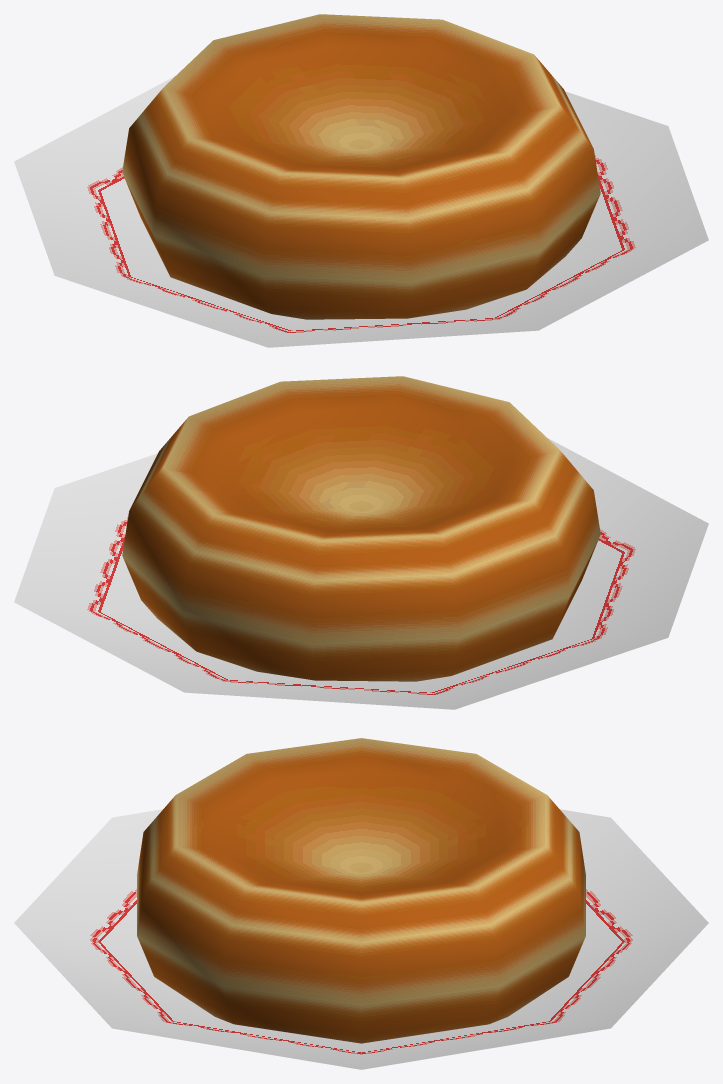
Rendered from 5547u_pan00_d.gltf.
3 views of the same model, one above another, from view 1: azimuth 30°, elevation 25°; view 2: azimuth 150°, elevation 25°; view 3: azimuth 270°, elevation 25° (orthographic).
Visible parts, largest first — view 1: 5547u_pan00_d; view 2: 5547u_pan00_d; view 3: 5547u_pan00_d.
Part boxes in pixels (x1,y1,x2,y2): 5547u_pan00_d: (14, 14, 708, 347); 5547u_pan00_d: (14, 376, 708, 709); 5547u_pan00_d: (14, 738, 708, 1069).
Bounding box in the file's own units: 0.9209 × 0.2625 × 0.9209.
2 materials, 2 textured.
